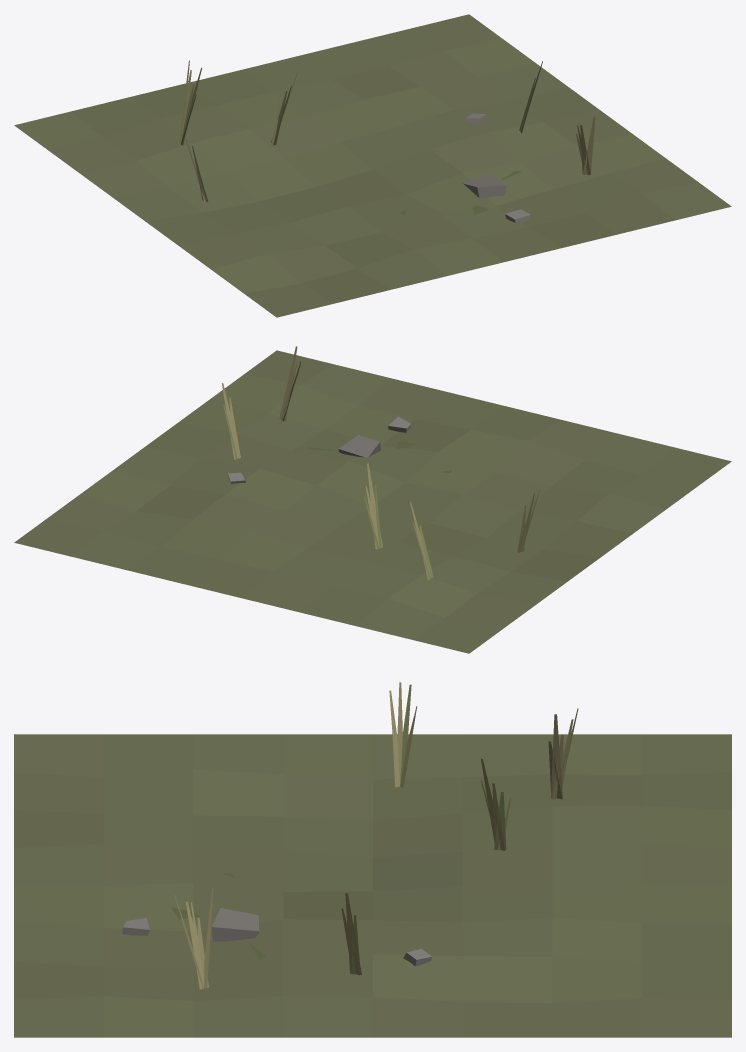
File: swamp_lowpoly.glb
3 views of the same model, one above another, from view 1: azimuth 30°, elevation 25°; view 2: azimuth 150°, elevation 25°; view 3: azimuth 270°, elevation 25° (orthographic). The views are drawn at different scales.
Visible parts, largest first — view 1: SwampTile; view 2: SwampTile; view 3: SwampTile.
Boxes of the visible parts, bbox=[...] form: SwampTile: bbox=[14, 14, 731, 317]; SwampTile: bbox=[14, 346, 731, 653]; SwampTile: bbox=[14, 682, 731, 1037].
Bounding box in the file's own units: 1 × 0.1917 × 1.
